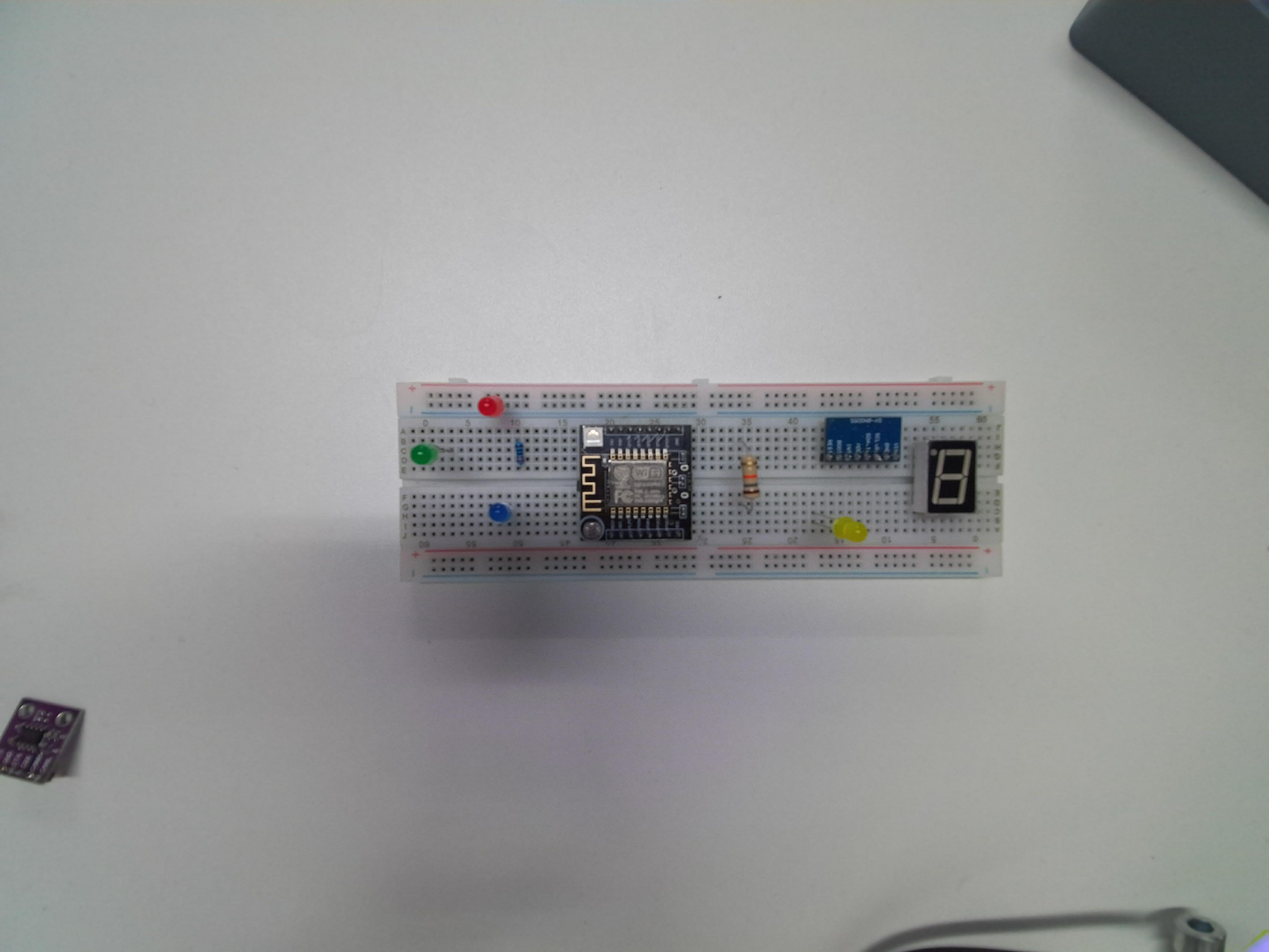base: (397, 378, 1005, 585)
blue-board: (821, 412, 903, 468)
blue-led: (489, 503, 510, 525)
digit-board: (924, 435, 979, 515)
esp: (576, 422, 693, 543)
green-led: (410, 443, 438, 469)
purple-board: (0, 696, 87, 788)
red-led: (474, 391, 506, 423)
resistor-big: (741, 452, 760, 501)
resistor-small: (513, 434, 526, 469)
yellow-led: (832, 516, 867, 545)
